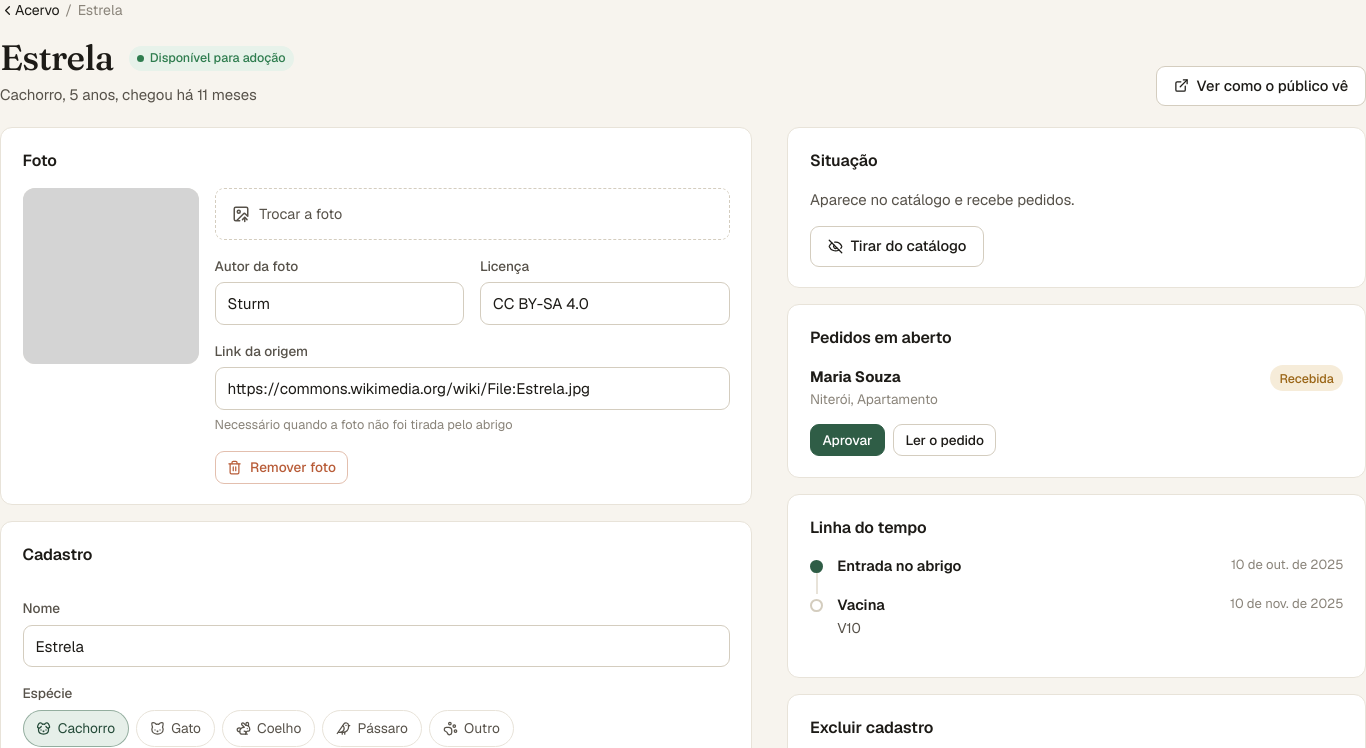
gerenciar animal › mostra a mensagem da API quando a ação é recusada sem erro de campo
Click the button "Tirar do catálogo".
click(897, 246)  # box x1=810 y1=226 x2=984 y2=267
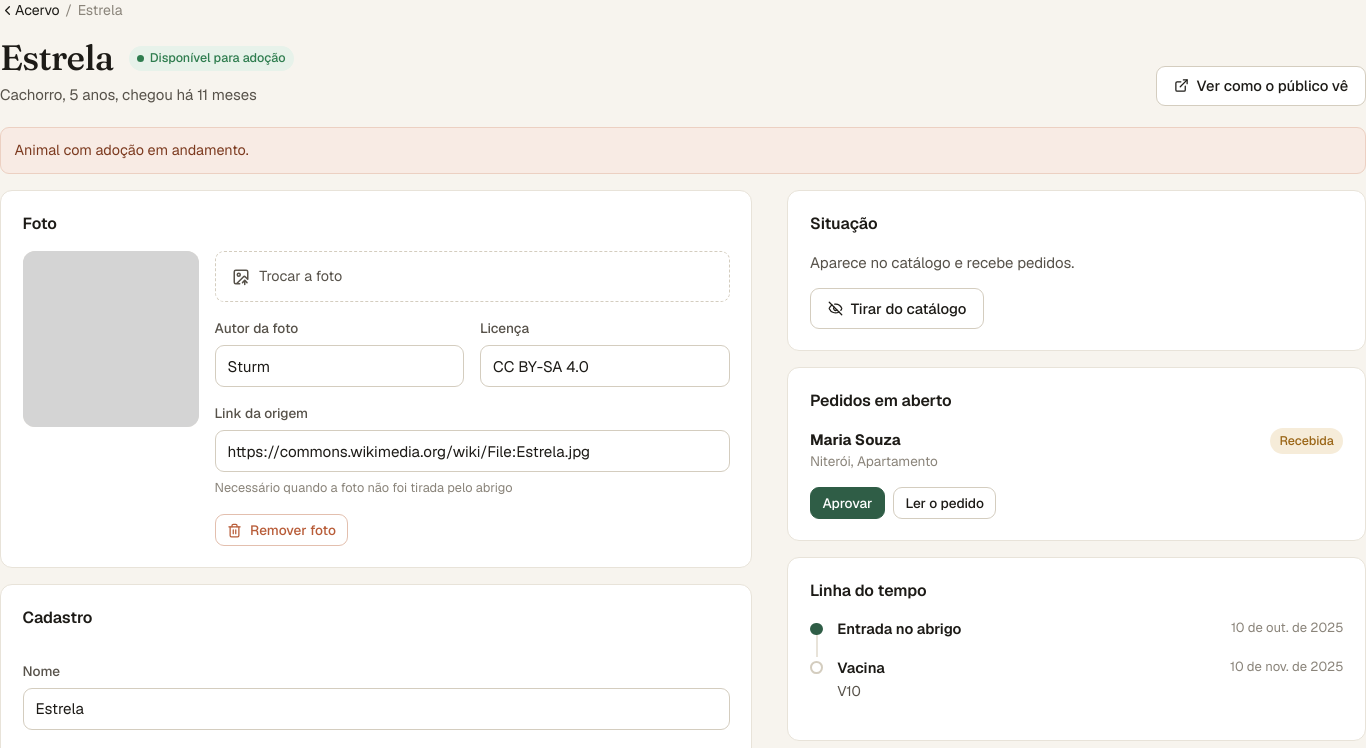
Expected: the text "Animal com adoção em andamento." is shown, x1=0 y1=127 x2=1365 y2=174
